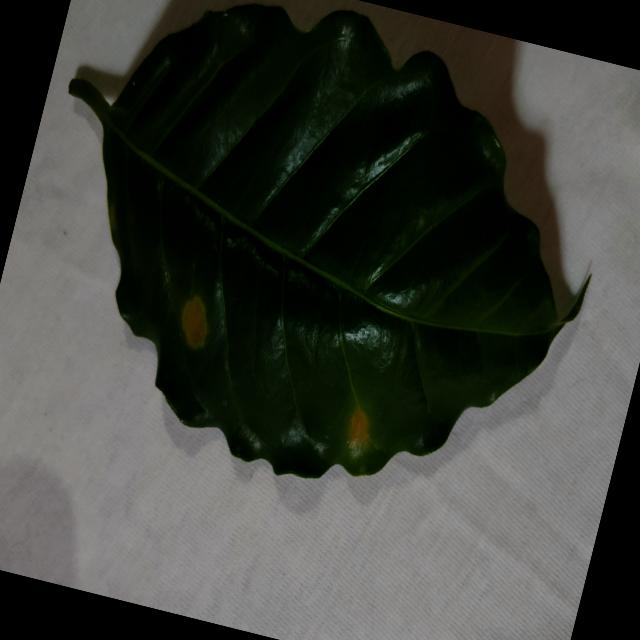KaratDaunKopi: (181, 296, 207, 349), (348, 406, 370, 449)
